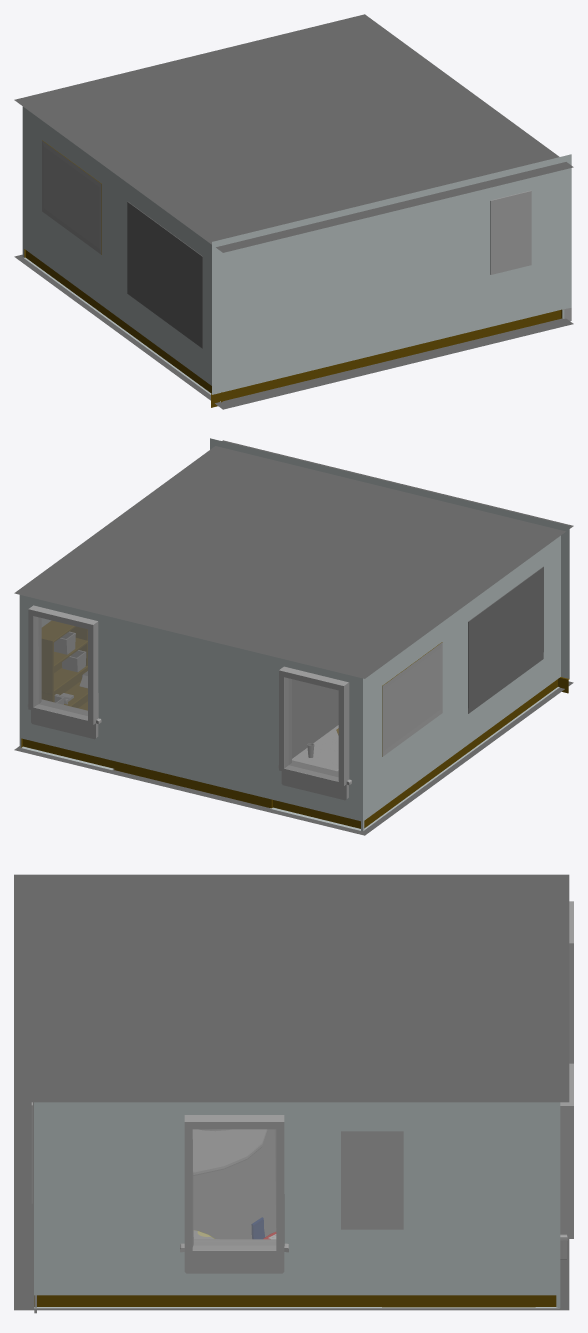
File: Preschool_NewestIteration.fbx
3 views of the same model, one above another, from view 1: azimuth 30°, elevation 25°; view 2: azimuth 150°, elevation 25°; view 3: azimuth 270°, elevation 25° (orthographic). The views are drawn at different scales.
Visible parts, largest first — view 1: Floor3, Far_Wall, Walls, WhiteBoard, Floor, FramedPhoto, Poster1; view 2: Floor3, Walls, Window_Right, Window_Left, WhiteBoard, Floor, FramedPhoto, Far_Wall, BookShelf_Top, Cubby, Desk_Teacher, BookShelf_Bottom; view 3: Floor3, Walls, Window_RightWall, Floor, Poster2, ReadingArea_Carpet, Window_Right, BookShelf_Bottom, Window_Left.
Part boxes in pixels (left/top/right/bottom): Floor3: left=14, top=14, right=573, bottom=252; Far_Wall: left=211, top=154, right=571, bottom=407; Walls: left=22, top=106, right=564, bottom=402; WhiteBoard: left=127, top=201, right=202, bottom=348; Floor: left=14, top=254, right=573, bottom=409; FramedPhoto: left=42, top=140, right=101, bottom=254; Poster1: left=490, top=190, right=531, bottom=274; Floor3: left=14, top=440, right=573, bottom=678; Walls: left=19, top=535, right=560, bottom=831; Window_Right: left=27, top=605, right=101, bottom=739; Window_Left: left=278, top=666, right=351, bottom=800; WhiteBoard: left=468, top=566, right=543, bottom=713; Floor: left=14, top=679, right=573, bottom=835; FramedPhoto: left=382, top=642, right=442, bottom=756; Far_Wall: left=210, top=438, right=569, bottom=693; BookShelf_Top: left=42, top=621, right=87, bottom=693; Cubby: left=114, top=761, right=272, bottom=808; Desk_Teacher: left=292, top=725, right=338, bottom=771; BookShelf_Bottom: left=42, top=669, right=87, bottom=710; Floor3: left=14, top=874, right=569, bottom=1102; Walls: left=34, top=1102, right=560, bottom=1308; Window_RightWall: left=180, top=1115, right=288, bottom=1273; Floor: left=14, top=1102, right=569, bottom=1310; Poster2: left=341, top=1131, right=403, bottom=1229; ReadingArea_Carpet: left=193, top=1129, right=267, bottom=1175; Window_Right: left=560, top=1063, right=573, bottom=1259; BookShelf_Bottom: left=382, top=1295, right=535, bottom=1307; Window_Left: left=569, top=901, right=573, bottom=1063.
Size of the model in its own units: 23.47 by 10.3 by 23.61.
